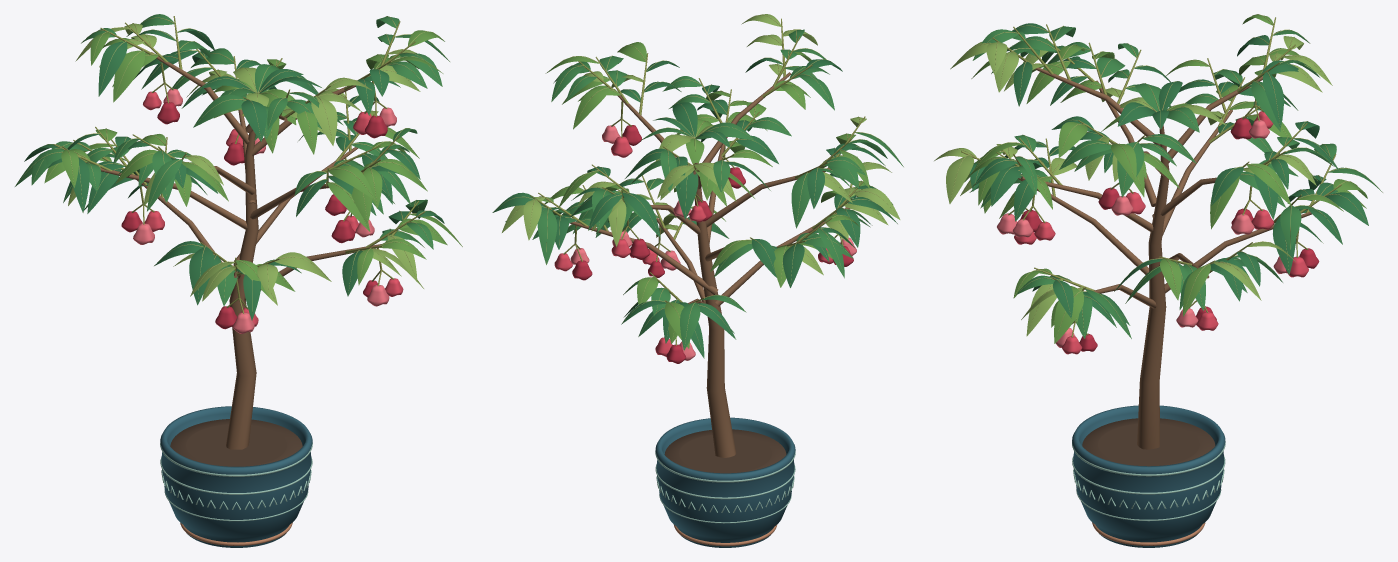
3 views of the same model, side by side, from view 1: azimuth 30°, elevation 25°; view 2: azimuth 150°, elevation 25°; view 3: azimuth 270°, elevation 25° (orthographic). The views are drawn at different scales.
Visible parts, largest first — view 1: Canopy, Jardiniere, Tree wood, Jambu clusters, Leaf ribs, Root ball, Fruit stalks; view 2: Canopy, Jardiniere, Tree wood, Jambu clusters, Leaf ribs, Root ball, Fruit stalks; view 3: Canopy, Jardiniere, Tree wood, Jambu clusters, Leaf ribs, Root ball, Fruit stalks.
Boxes of the visible parts, x1=… form: Canopy: x1=15, y1=14, x2=462, y2=320; Jardiniere: x1=160, y1=406, x2=312, y2=547; Tree wood: x1=54, y1=16, x2=424, y2=449; Jambu clusters: x1=121, y1=88, x2=403, y2=333; Leaf ribs: x1=15, y1=16, x2=462, y2=312; Root ball: x1=170, y1=419, x2=302, y2=466; Fruit stalks: x1=131, y1=61, x2=393, y2=313; Canopy: x1=492, y1=14, x2=903, y2=358; Jardiniere: x1=655, y1=417, x2=795, y2=547; Tree wood: x1=530, y1=18, x2=865, y2=457; Jambu clusters: x1=554, y1=125, x2=856, y2=363; Leaf ribs: x1=493, y1=14, x2=902, y2=351; Root ball: x1=664, y1=429, x2=786, y2=473; Fruit stalks: x1=563, y1=101, x2=843, y2=345; Canopy: x1=934, y1=14, x2=1381, y2=343; Jardiniere: x1=1072, y1=405, x2=1225, y2=547; Tree wood: x1=961, y1=17, x2=1341, y2=449; Jambu clusters: x1=997, y1=111, x2=1319, y2=354; Leaf ribs: x1=934, y1=14, x2=1382, y2=341; Root ball: x1=1082, y1=418, x2=1215, y2=466; Fruit stalks: x1=1008, y1=99, x2=1308, y2=337.
Bounding box in the file's own units: 1.64 × 2.04 × 1.68.
